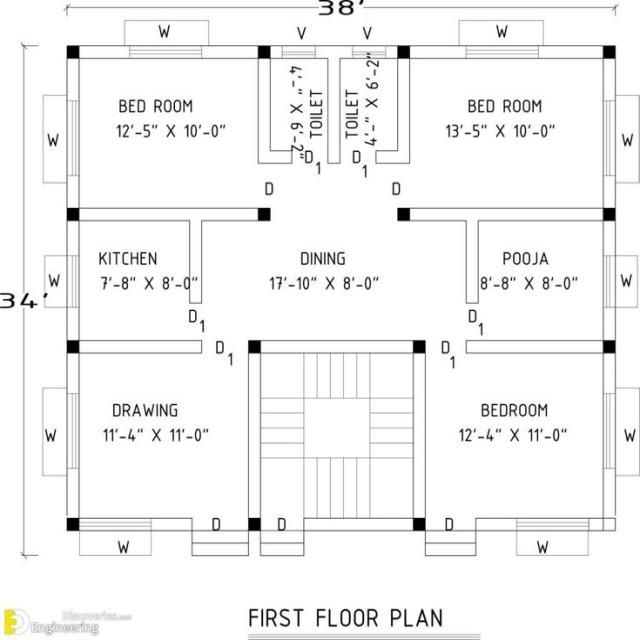column: (408, 336, 431, 358), (62, 41, 84, 62), (394, 41, 415, 63), (393, 205, 414, 226), (254, 41, 274, 62), (63, 336, 84, 356), (598, 336, 618, 357), (63, 203, 83, 223), (255, 203, 274, 224), (245, 335, 264, 356), (600, 203, 618, 225), (63, 514, 82, 534), (600, 41, 618, 62), (242, 516, 264, 533), (408, 515, 427, 532)
